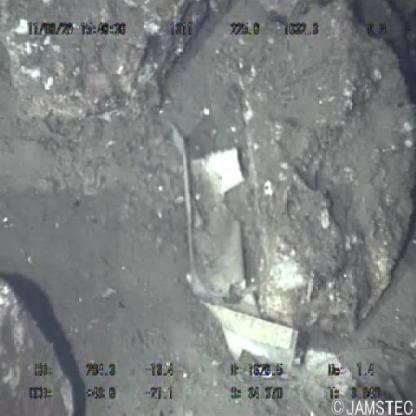Rác: (167, 124, 298, 376)
